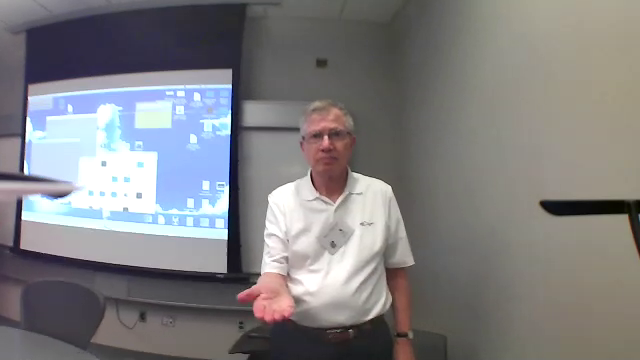land: (228, 277, 302, 326)
